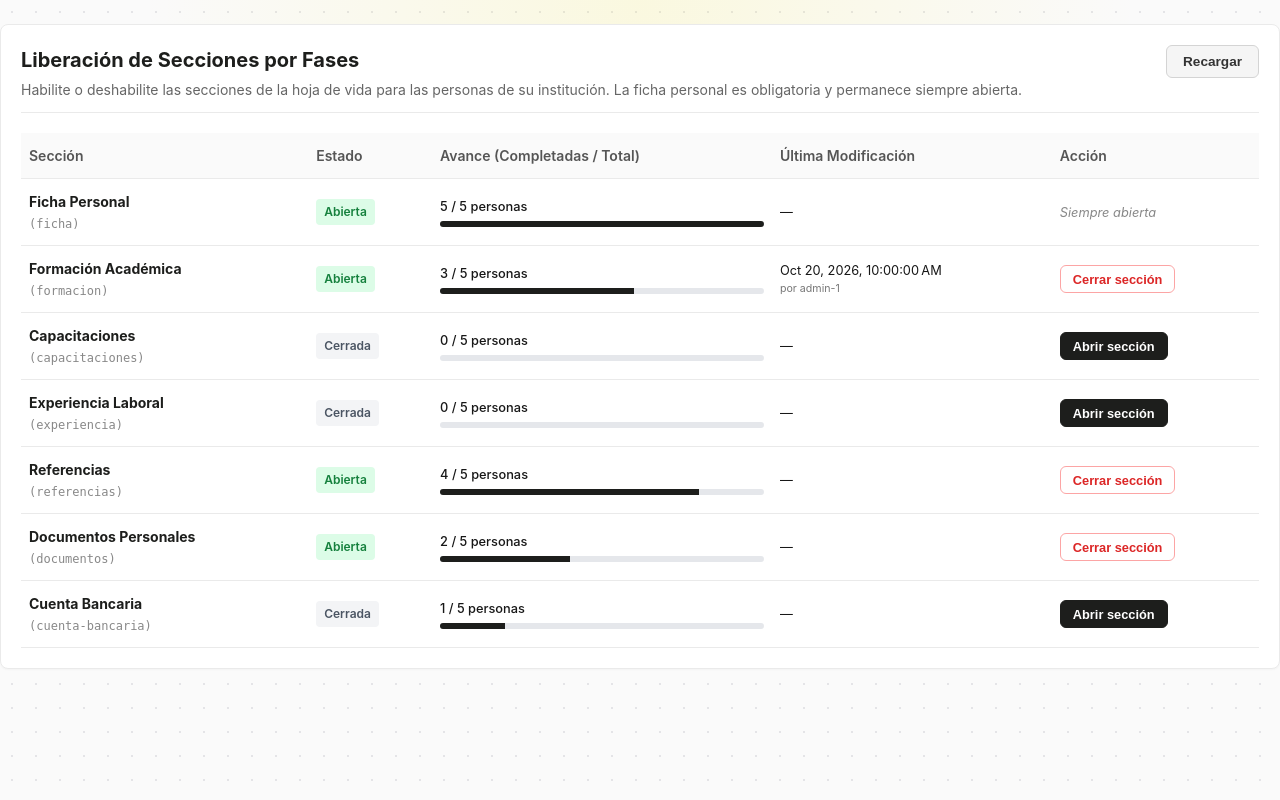
Scenario: SeccionesComponent › error_accesible_cuando_falla_la_api
Click the button with test id "btn-toggle-capacitaciones". click: [1114, 346]
box: [1060,332,1168,360]
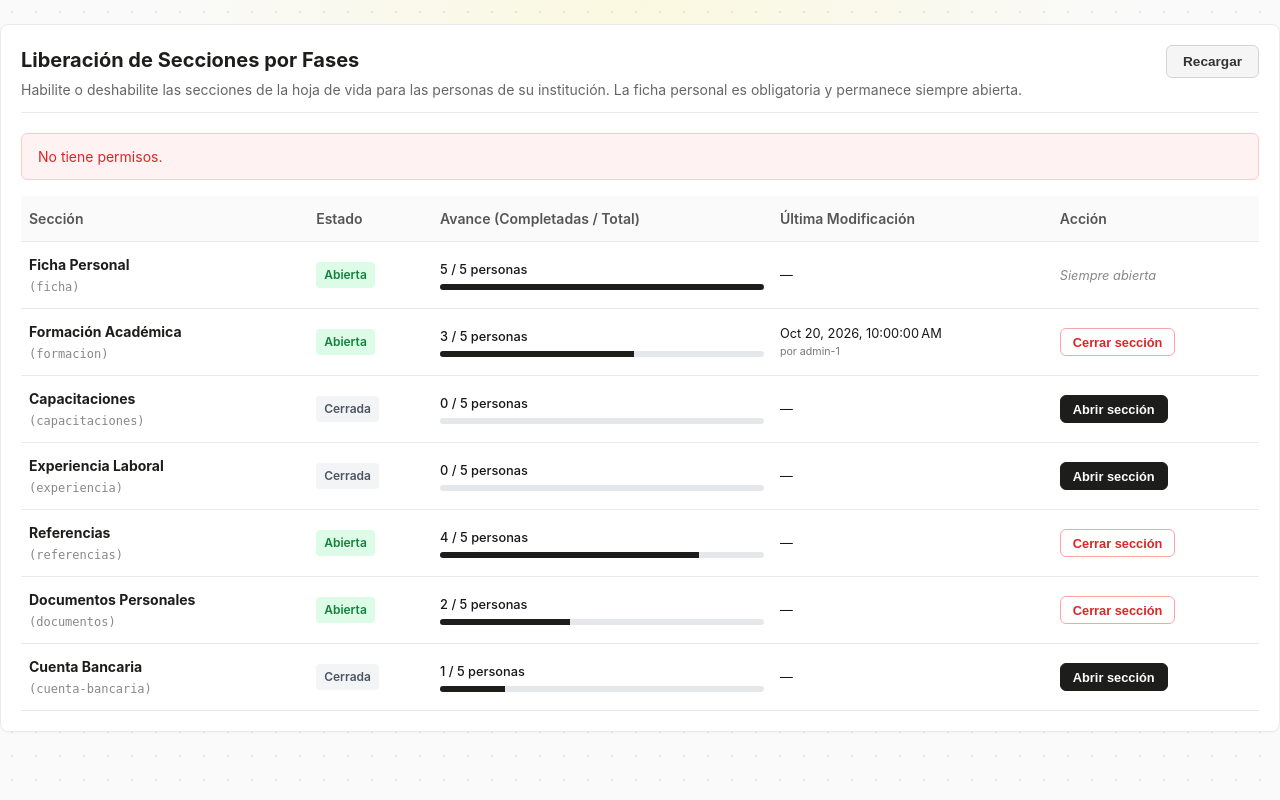
Now the message "No tiene permisos." is shown, box [21,133,1259,180]
Now the message with test id "error-secciones" reads "No tiene permisos.", box [38,148,162,165]
